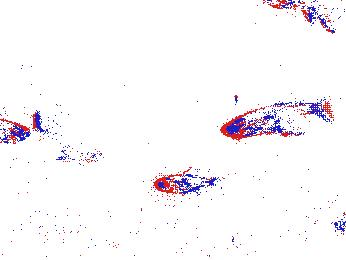red belly glassfish: (153, 171, 217, 196)
redtail glassfish: (219, 92, 336, 140), (28, 119, 105, 166), (257, 1, 346, 24), (1, 118, 43, 148)
